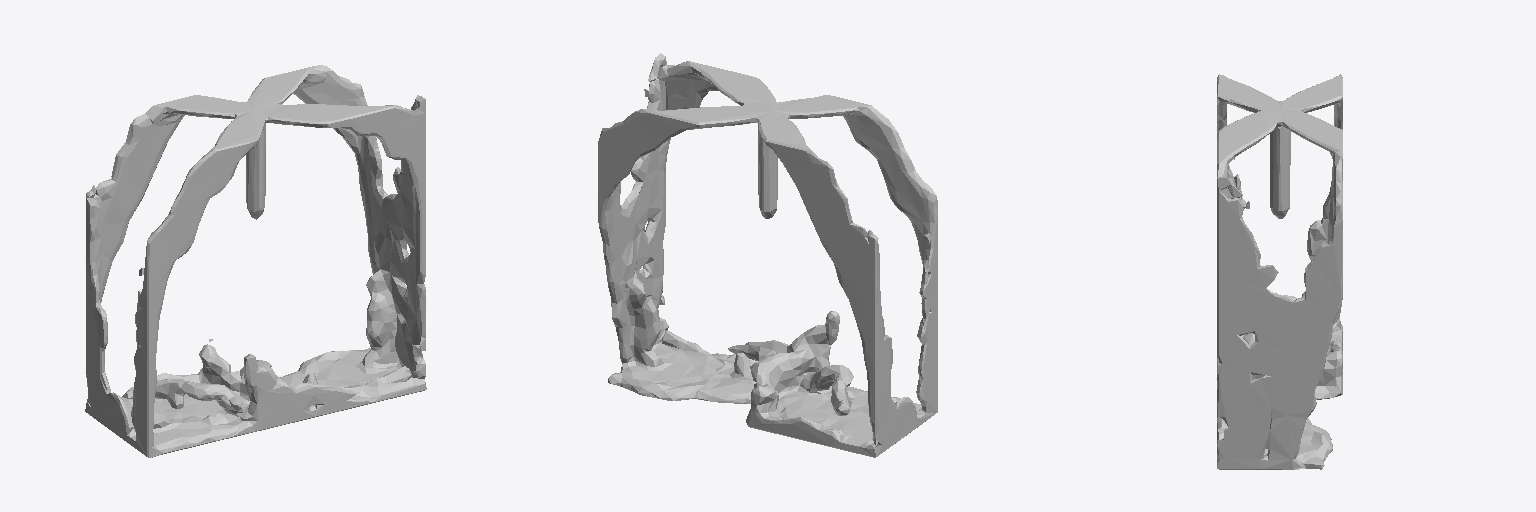
3 renders of one model, left to right at view 1: azimuth 30°, elevation 25°; view 2: azimuth 150°, elevation 25°; view 3: azimuth 270°, elevation 25°, orthographic.
Parts seen in each view (by area): view 1: Liquid_Domain; view 2: Liquid_Domain; view 3: Liquid_Domain.
Part boxes in pixels (x1,y1,x2,y2): Liquid_Domain: (85, 65, 426, 457); Liquid_Domain: (598, 53, 937, 457); Liquid_Domain: (1217, 74, 1342, 469).
Bounding box in the file's own units: 884 × 884 × 344.